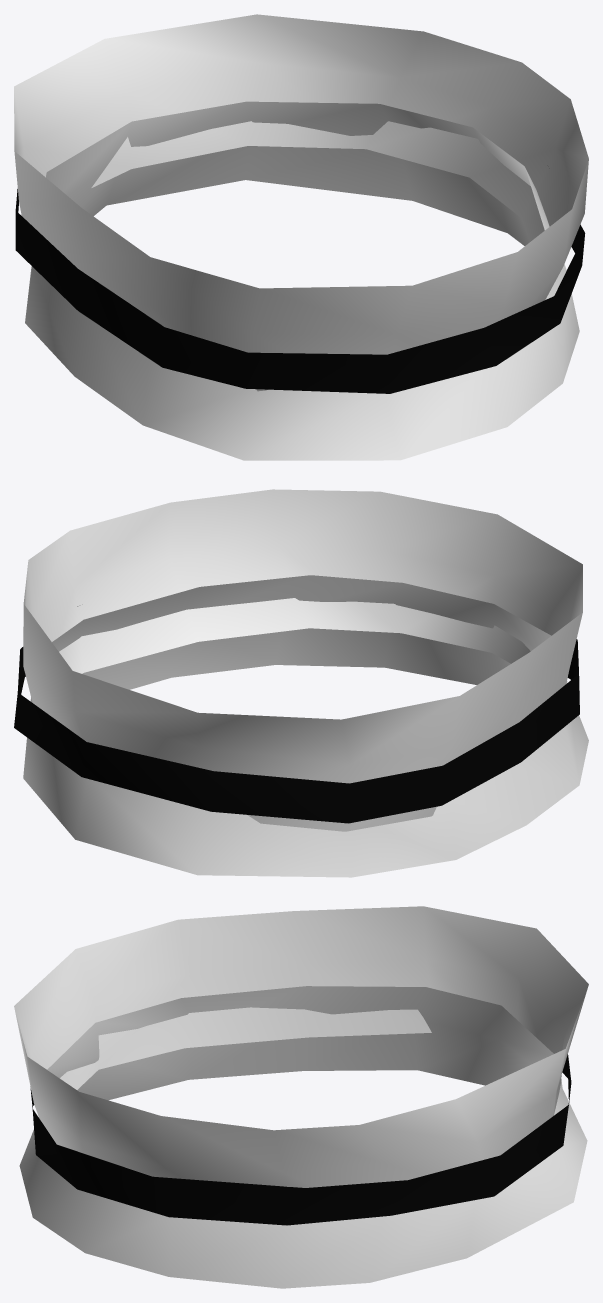
Rendered from vib.fbx.
3 views of the same model, one above another, from view 1: azimuth 30°, elevation 25°; view 2: azimuth 150°, elevation 25°; view 3: azimuth 270°, elevation 25° (orthographic). The views are drawn at different scales.
Visible parts, largest first — view 1: Vib_mesh; view 2: Vib_mesh; view 3: Vib_mesh.
Part boxes in pixels (<box>): Vib_mesh: <box>14,14,588,460</box>; Vib_mesh: <box>14,489,588,877</box>; Vib_mesh: <box>14,906,588,1288</box>.
Bounding box in the file's own units: 15.64 × 6.19 × 17.28.
Materials: 2 (2 with a texture image).
